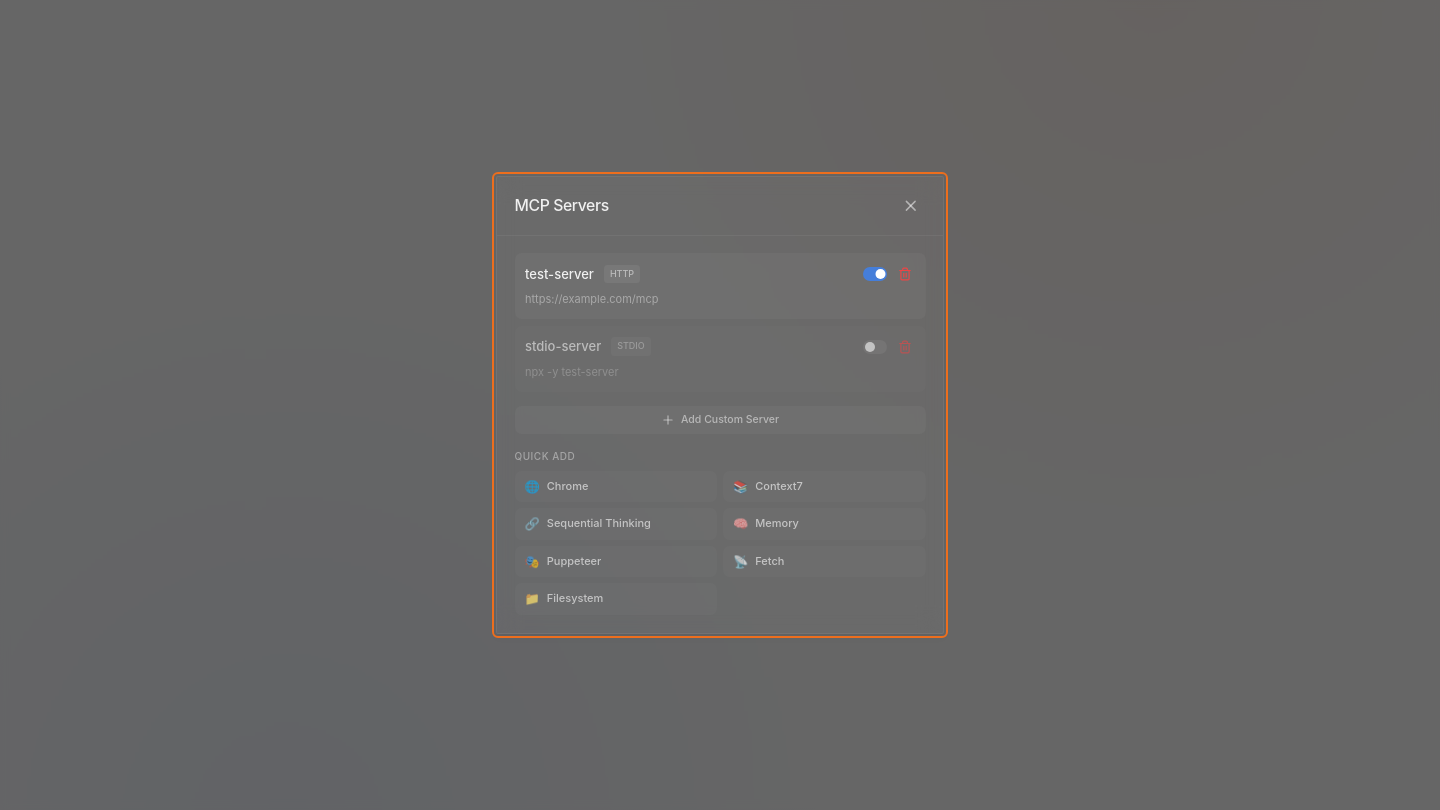
it: MCPModal › add server form › should hide form when Cancel clicked
Click the button "Add Custom Server": (720, 420) [514,406,926,434]
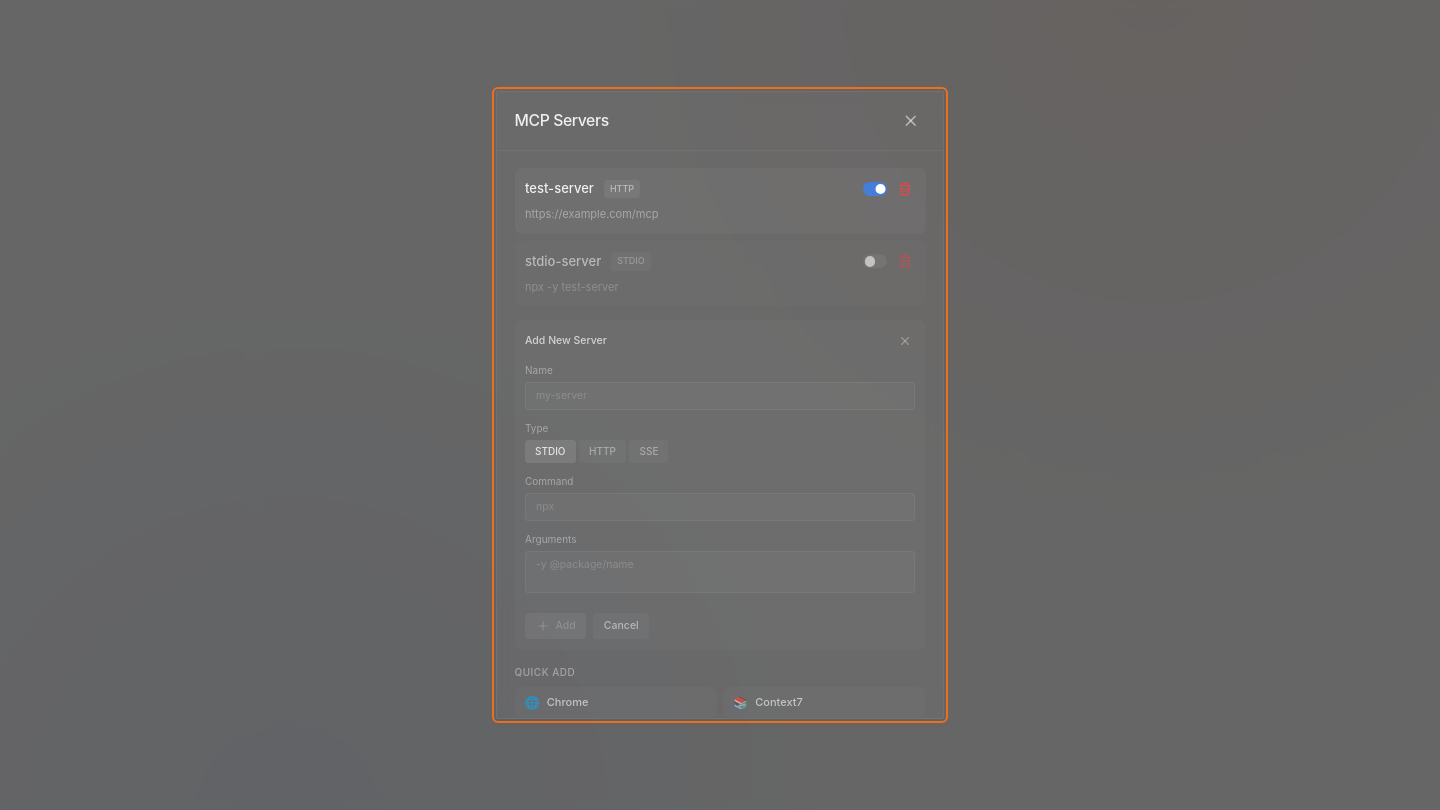
Expected: the heading "Add New Server" is shown, [525,334,607,348]
Click the button "Cancel": (621, 626) [593,613,649,639]
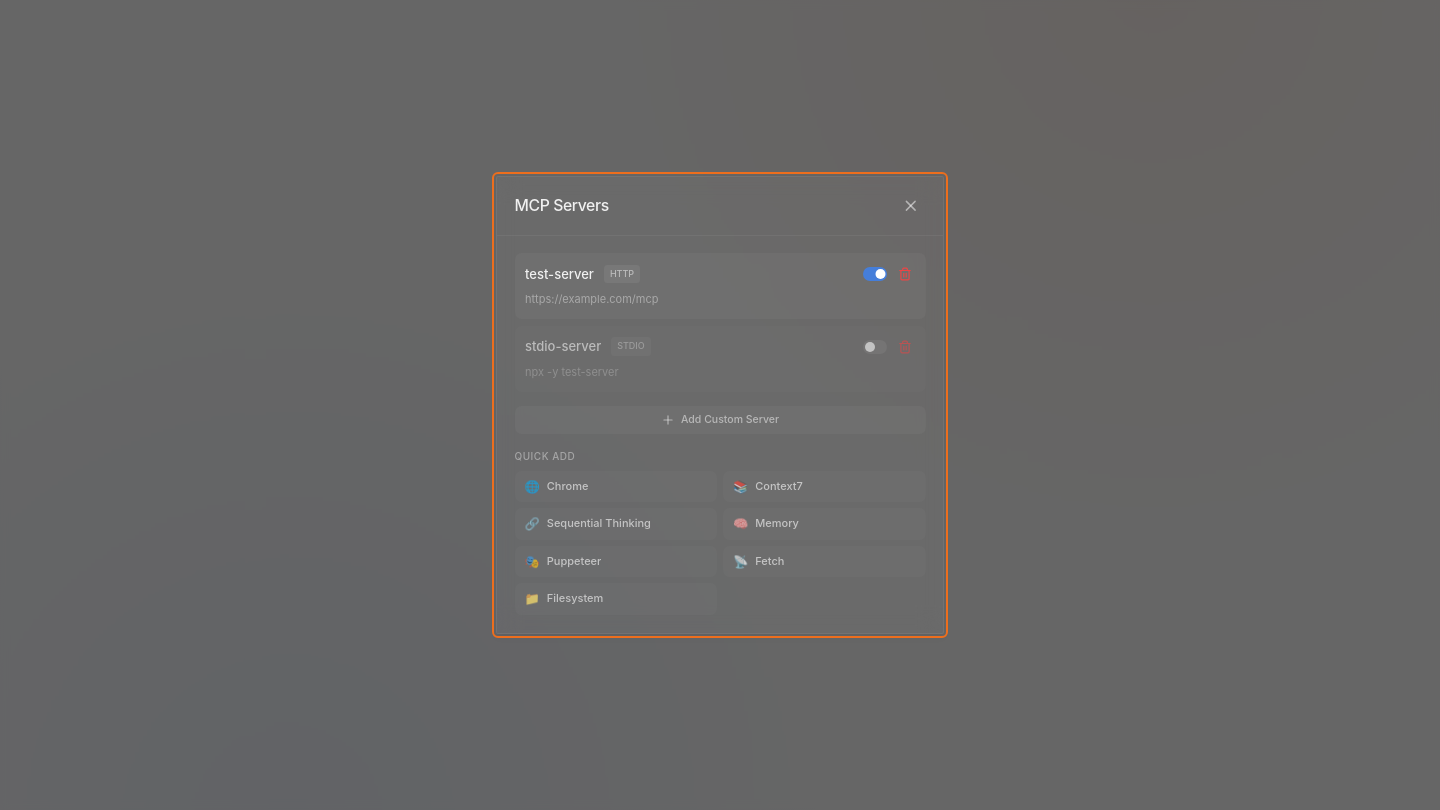
Expected: the heading "Add New Server" is gone
